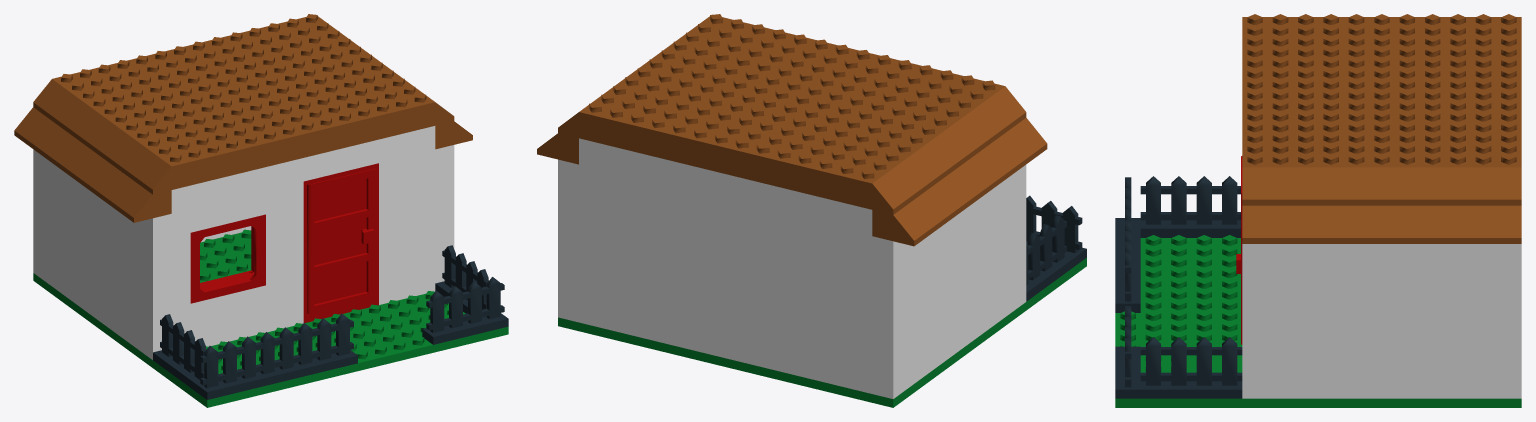
The model's file is housesimpletrans-lod2.fbx.
3 renders of one model, left to right at view 1: azimuth 30°, elevation 25°; view 2: azimuth 150°, elevation 25°; view 3: azimuth 270°, elevation 25°, orthographic. The views are drawn at different scales.
Visible parts, largest first — view 1: Material_38, Material_1, Material_26, Material_21, Material_28; view 2: Material_1, Material_38, Material_28, Material_26; view 3: Material_38, Material_1, Material_28, Material_26, Material_21.
Boxes of the visible parts, x1,y1,x2,y2 form: Material_38: [14, 14, 472, 222]; Material_1: [33, 126, 454, 359]; Material_26: [153, 245, 508, 399]; Material_21: [190, 163, 378, 322]; Material_28: [33, 229, 508, 407]; Material_1: [558, 138, 1026, 398]; Material_38: [537, 14, 1047, 246]; Material_28: [558, 257, 1086, 407]; Material_26: [1026, 195, 1086, 301]; Material_38: [1242, 14, 1521, 243]; Material_1: [1242, 244, 1521, 398]; Material_28: [1115, 235, 1521, 407]; Material_26: [1115, 176, 1242, 398]; Material_21: [1236, 156, 1242, 344].
Bounding box in the file's own units: 14.4 × 8.18 × 12.8.
